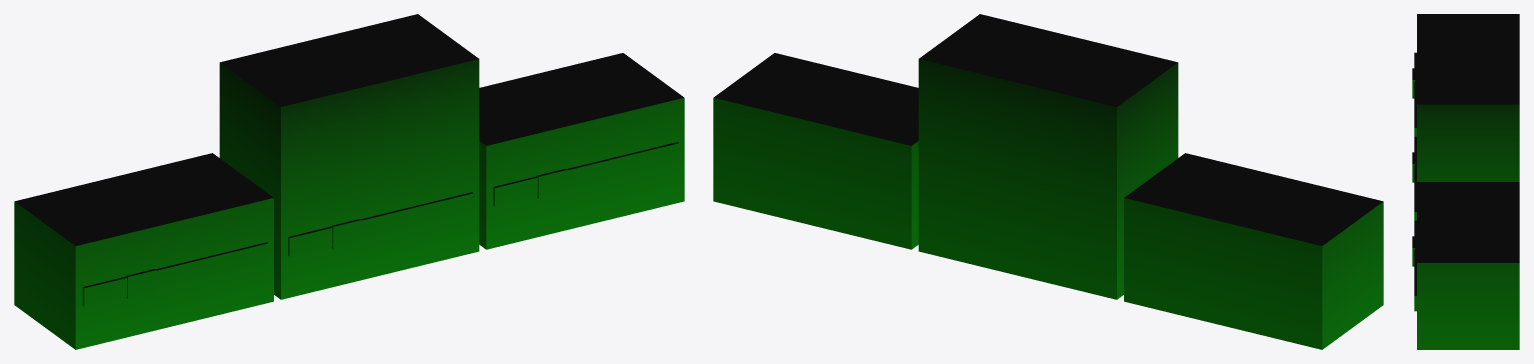
Rendered from munitionscrates.glb.
3 views of the same model, side by side, from view 1: azimuth 30°, elevation 25°; view 2: azimuth 150°, elevation 25°; view 3: azimuth 270°, elevation 25° (orthographic). The views are drawn at different scales.
Visible parts, largest first — view 1: lod0; view 2: lod0; view 3: lod0.
Part boxes in pixels (x1,y1,x2,y2): lod0: [14, 14, 684, 349]; lod0: [713, 14, 1383, 349]; lod0: [1412, 14, 1519, 349].
Size of what is drawn, in the model's own units: 8.6 by 2.6 by 1.57.
